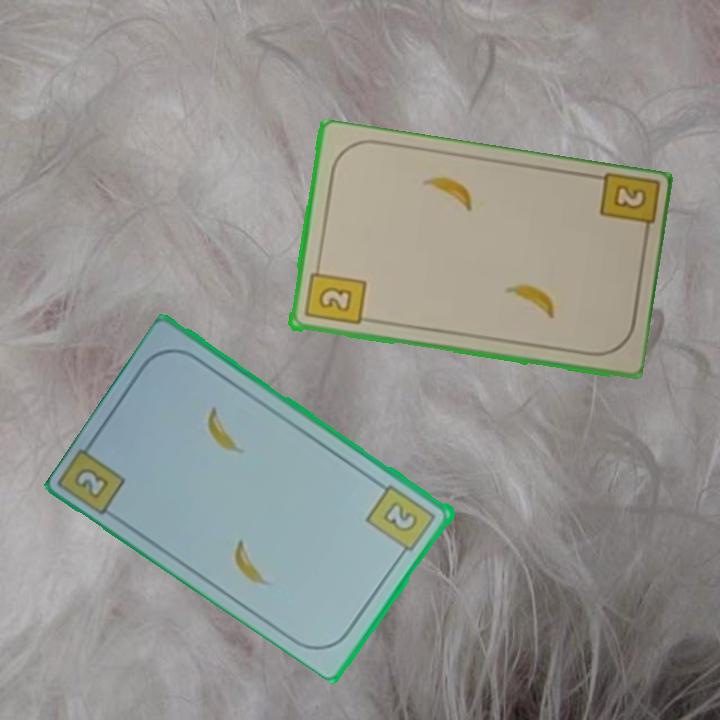2b: (363, 481, 440, 561), (595, 171, 658, 244), (301, 260, 368, 328), (71, 464, 113, 502)
